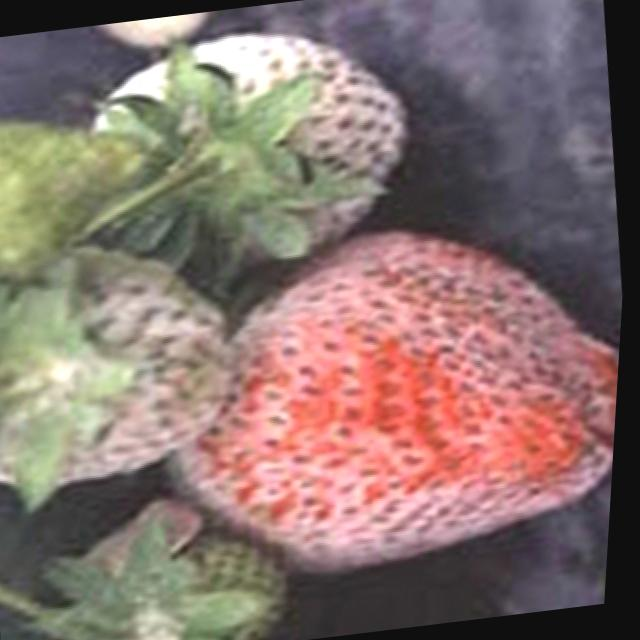Powdery Mildew Fruit: (167, 231, 624, 574), (91, 34, 409, 289), (0, 241, 241, 515)
